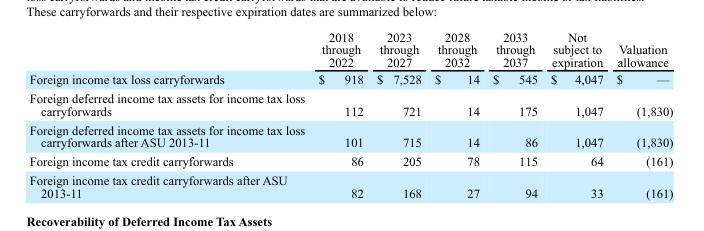table: (28, 29, 672, 199)
table column: (28, 29, 311, 199), (543, 29, 609, 199), (609, 29, 672, 199), (311, 29, 369, 199), (369, 29, 427, 199), (427, 29, 485, 199), (485, 29, 543, 199)
table column header: (28, 29, 672, 70)
table row: (28, 29, 672, 70), (28, 88, 672, 120), (28, 120, 672, 151), (28, 170, 672, 199), (28, 151, 672, 170), (28, 70, 672, 88)
